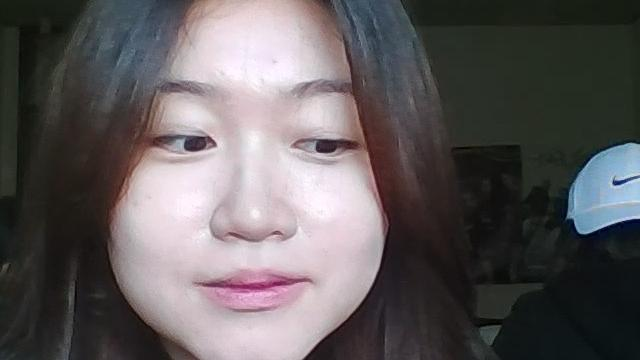eye: (185, 138, 207, 157), (317, 140, 337, 157)
iris: (154, 132, 217, 154), (291, 136, 347, 154)
